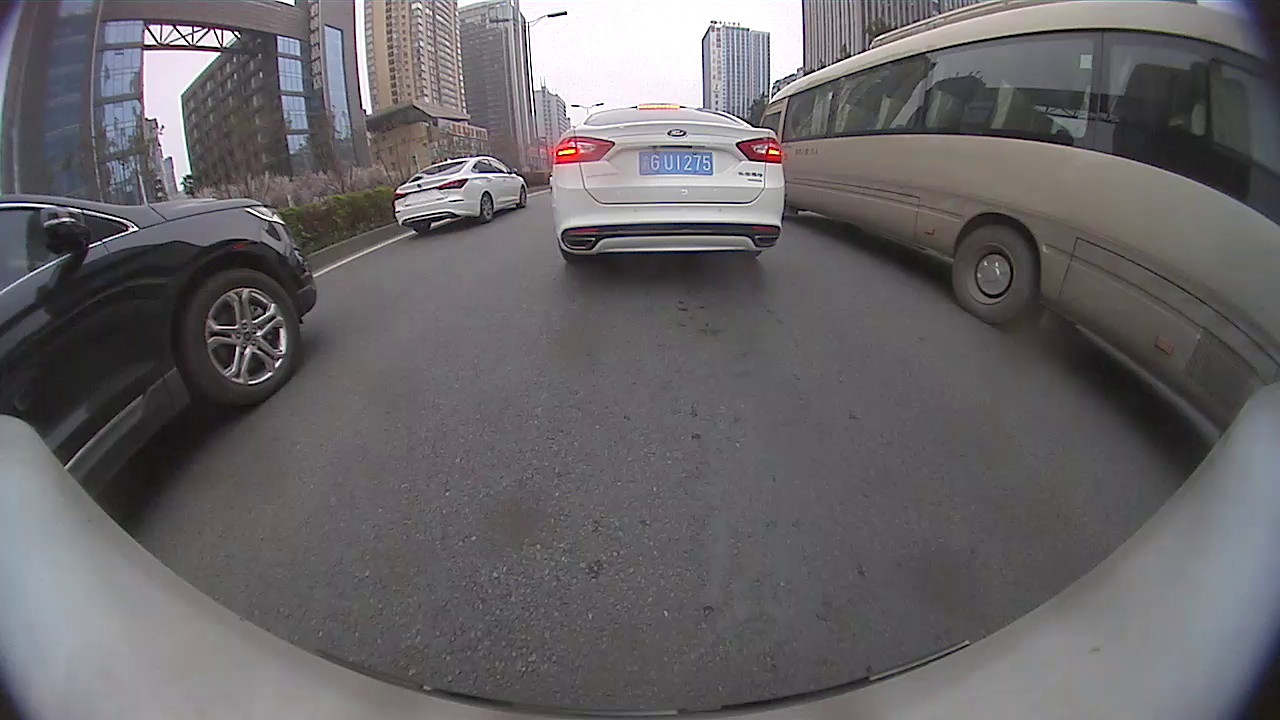bus: (754, 0, 1278, 432)
car: (0, 193, 318, 502), (547, 99, 786, 261), (393, 154, 527, 232)
front: (177, 269, 301, 408), (518, 183, 530, 208)
rear: (951, 227, 1036, 323), (481, 193, 494, 222)
